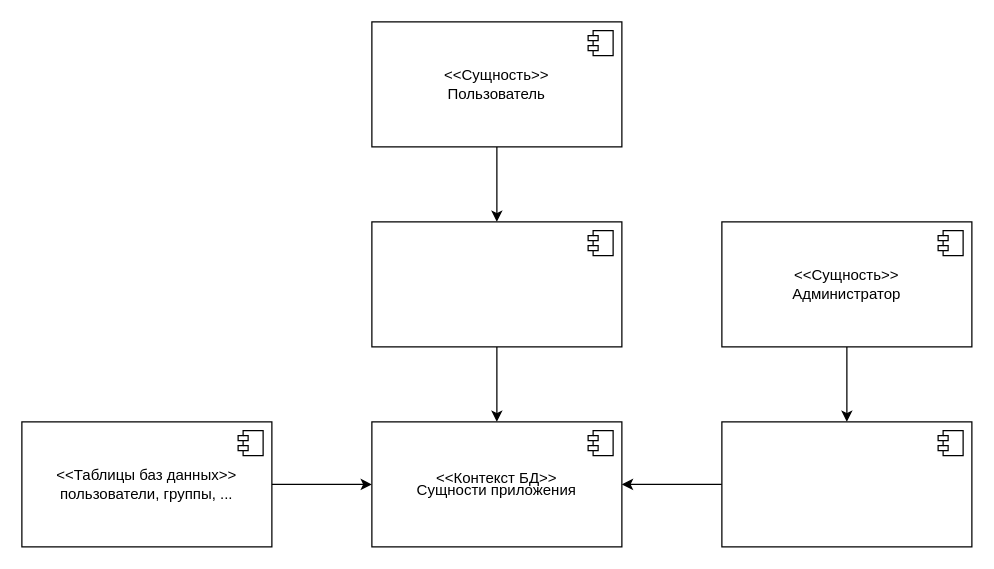
Image size: 994x569. Some labels were removed from this diagram. Each missing label, with the centre of its shape:
"<<Приложение>> регистрация, авторизация, ..." goes at pixel 496 284.
"<<Приложение>> удаление, изменение, присмотр информации бд" goes at pixel 846 484.
